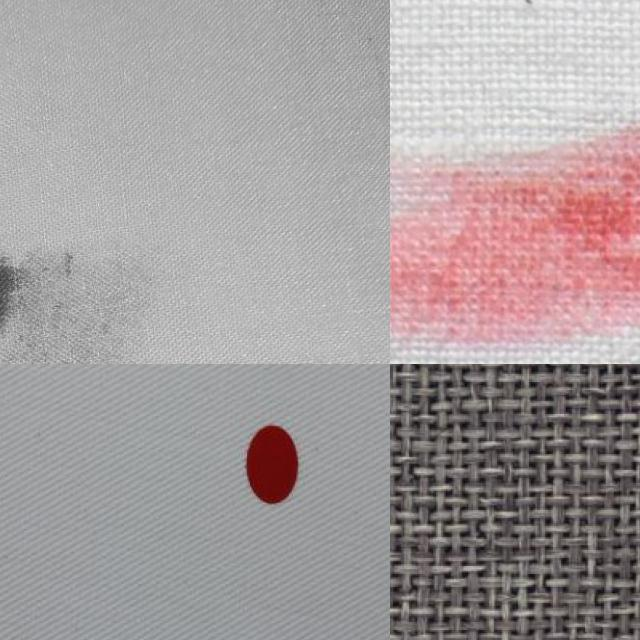Thread_other: (390, 61, 640, 364), (0, 209, 206, 364)
